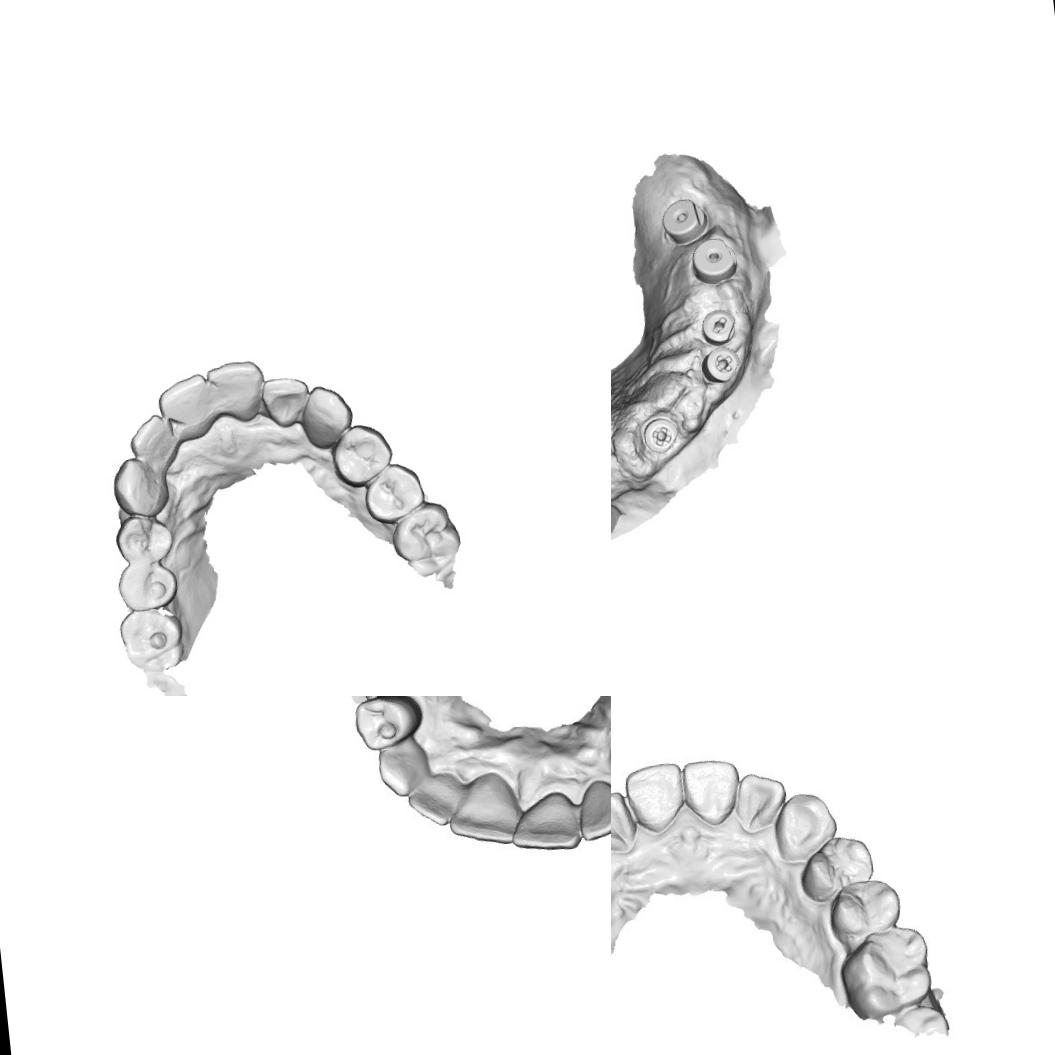canine: (772, 788, 840, 862), (108, 454, 173, 522), (297, 380, 358, 452), (376, 738, 434, 795)
implant: (658, 196, 712, 249), (688, 234, 741, 288)
implant_minus: (698, 307, 740, 346)
implant_plus: (697, 342, 744, 388), (640, 413, 682, 455)
incisor: (620, 760, 690, 832), (678, 752, 744, 825), (448, 774, 516, 842), (152, 370, 218, 440), (204, 356, 268, 426), (511, 793, 580, 857), (730, 767, 788, 832), (125, 410, 182, 473), (260, 372, 314, 431), (408, 773, 464, 825), (575, 774, 611, 838), (611, 789, 642, 859)
molar: (835, 924, 936, 1024), (388, 497, 466, 582), (116, 604, 189, 678)
premolar: (796, 832, 878, 905), (826, 875, 905, 944), (328, 418, 397, 491), (360, 458, 430, 526), (113, 558, 181, 615), (110, 511, 178, 566), (353, 696, 417, 748)
